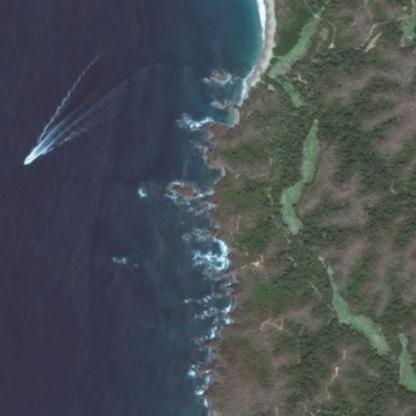ship: (28, 156, 30, 160)
